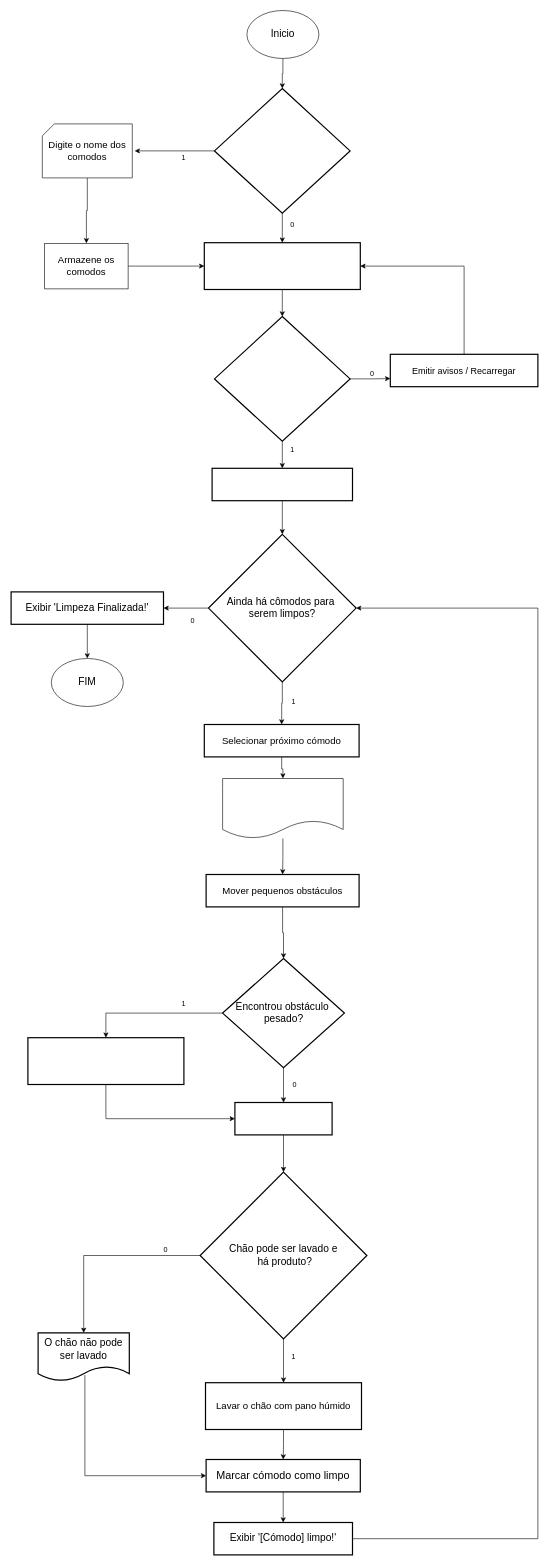
Some shapes in this 553 by 1566 pixel diagram are drawn without their labels. Here are the shapes that lost their labels. From the top down, the centre of each, then its label:
the point at 282,151: Primeira vez utilizando o robo?
the point at 282,266: Verificar nível da bateria e depósitos de lixo
the point at 282,379: Bateria OK? Depósitos vazios?
the point at 282,484: Definir Rota diaria
the point at 282,808: Iniciando limpeza do [cómodo]
the point at 105,1061: Marcar localização e contornar.
the point at 283,1118: Aspirar o chão
